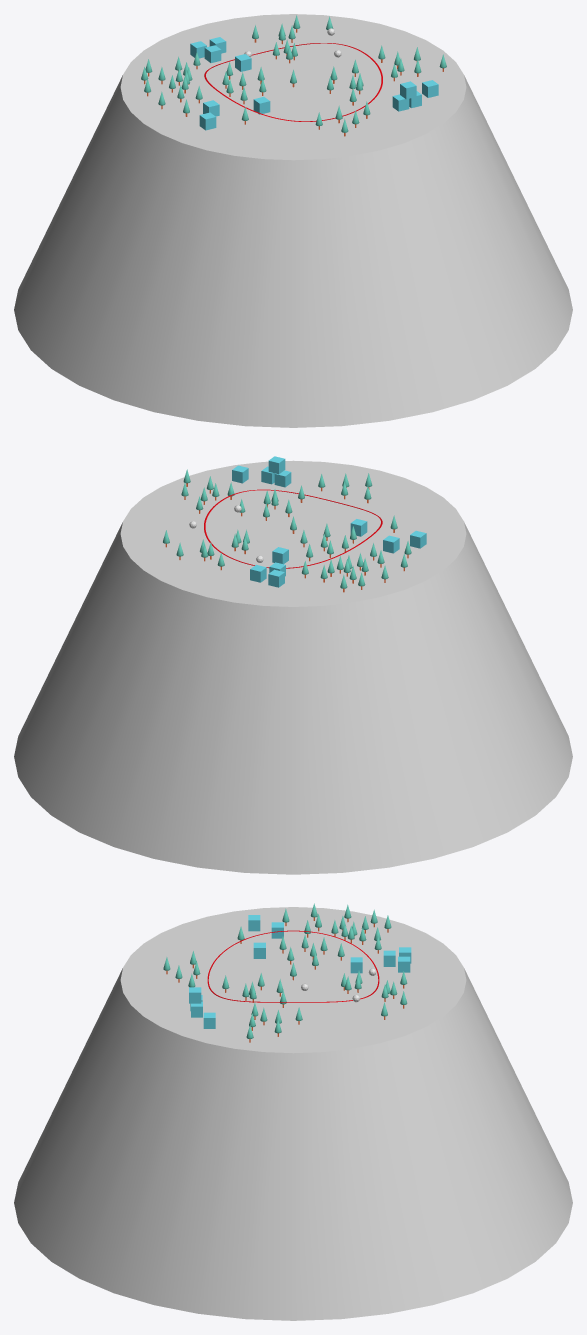
File: demo-scene-animated.glb
3 views of the same model, one above another, from view 1: azimuth 30°, elevation 25°; view 2: azimuth 150°, elevation 25°; view 3: azimuth 270°, elevation 25° (orthographic).
Visible parts, largest first — view 1: mount, TrainTracks; view 2: mount, TrainTracks; view 3: mount, TrainTracks.
Part boxes in pixels (bbox=[...]): mount: bbox=[14, 14, 572, 427]; TrainTracks: bbox=[204, 43, 382, 121]; mount: bbox=[14, 460, 572, 874]; TrainTracks: bbox=[204, 489, 382, 568]; mount: bbox=[14, 907, 572, 1320]; TrainTracks: bbox=[207, 930, 379, 1002].
Bounding box in the file's own units: 45.86 × 22.17 × 45.86.
